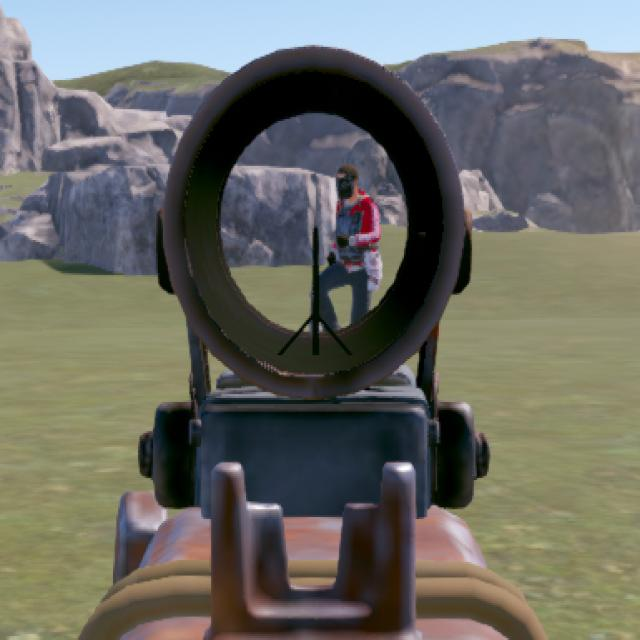Player: (322, 165, 380, 311)
